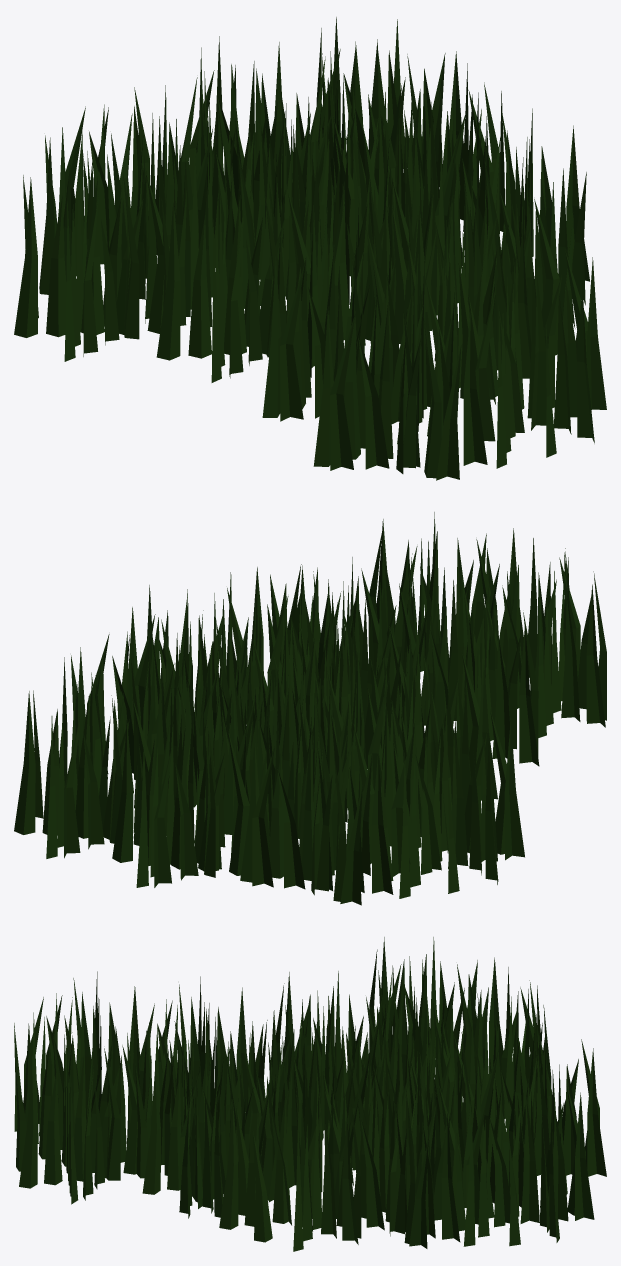
Rendered from grass3.fbx.
3 views of the same model, one above another, from view 1: azimuth 30°, elevation 25°; view 2: azimuth 150°, elevation 25°; view 3: azimuth 270°, elevation 25° (orthographic). The views are drawn at different scales.
Visible parts, largest first — view 1: Plane.813; view 2: Plane.813; view 3: Plane.813.
Part boxes in pixels (<box>): Plane.813: <box>14,17,606,480</box>; Plane.813: <box>14,512,606,905</box>; Plane.813: <box>14,937,606,1251</box>.
Bounding box in the file's own units: 98.41 × 30.52 × 127.
